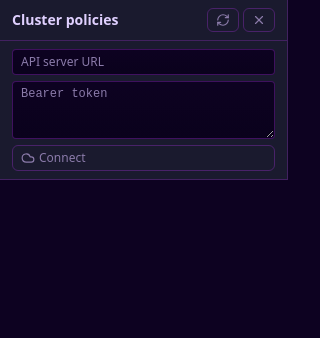
delete UI › shows the action bar with the selection count
Click the button named "Load policies" at (223, 20), box [207, 8, 239, 32]
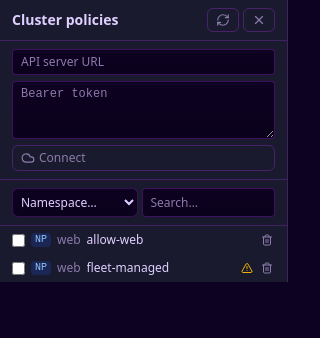
Expected: the text "allow-web" is shown, [87, 232, 143, 248]
Click the checkbox named "Select: web/allow-web" at (18, 240), box [12, 234, 25, 246]
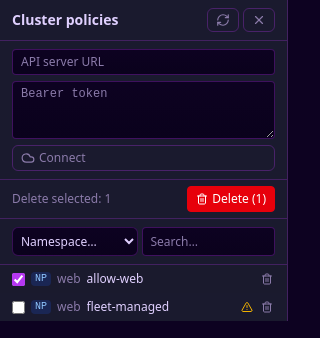
Click the checkbox named "Select: web/fleet-managed" at (18, 307), box [12, 300, 25, 314]
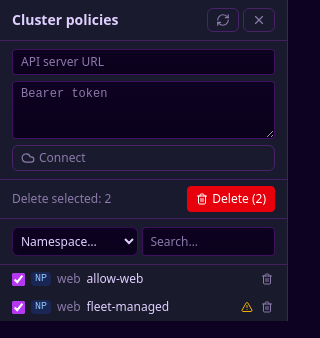
Expected: the button "Delete (2)" is shown, [187, 186, 275, 212]
